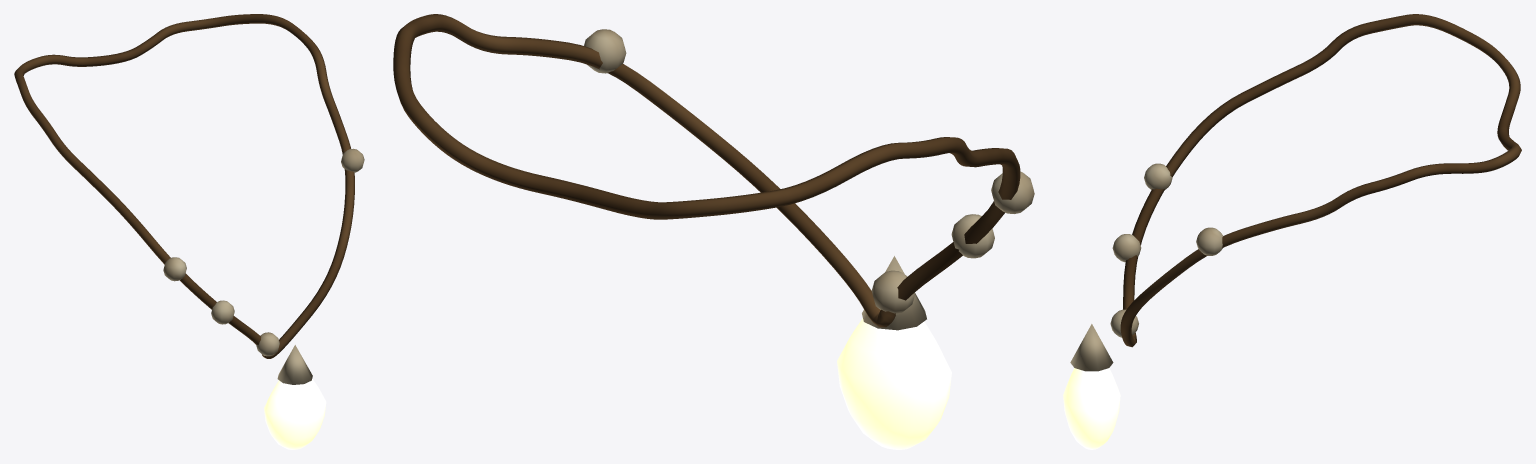
File: ghost_amber.glb
The picture shows the model from 3 angles, left to right: view 1: azimuth 30°, elevation 25°; view 2: azimuth 150°, elevation 25°; view 3: azimuth 270°, elevation 25°; orthographic projection. The views are drawn at different scales.
Visible parts, largest first — view 1: ghost_amber, amber; view 2: ghost_amber, amber; view 3: ghost_amber, amber.
Boxes of the visible parts, left/top/right/bottom form: ghost_amber: left=14, top=14, right=364, bottom=384; amber: left=264, top=379, right=326, bottom=449; ghost_amber: left=393, top=14, right=1034, bottom=330; amber: left=837, top=318, right=951, bottom=449; ghost_amber: left=1070, top=14, right=1521, bottom=371; amber: left=1063, top=368, right=1120, bottom=449.
Size of the model in its own units: 0.1084 by 0.1088 by 0.1276.
